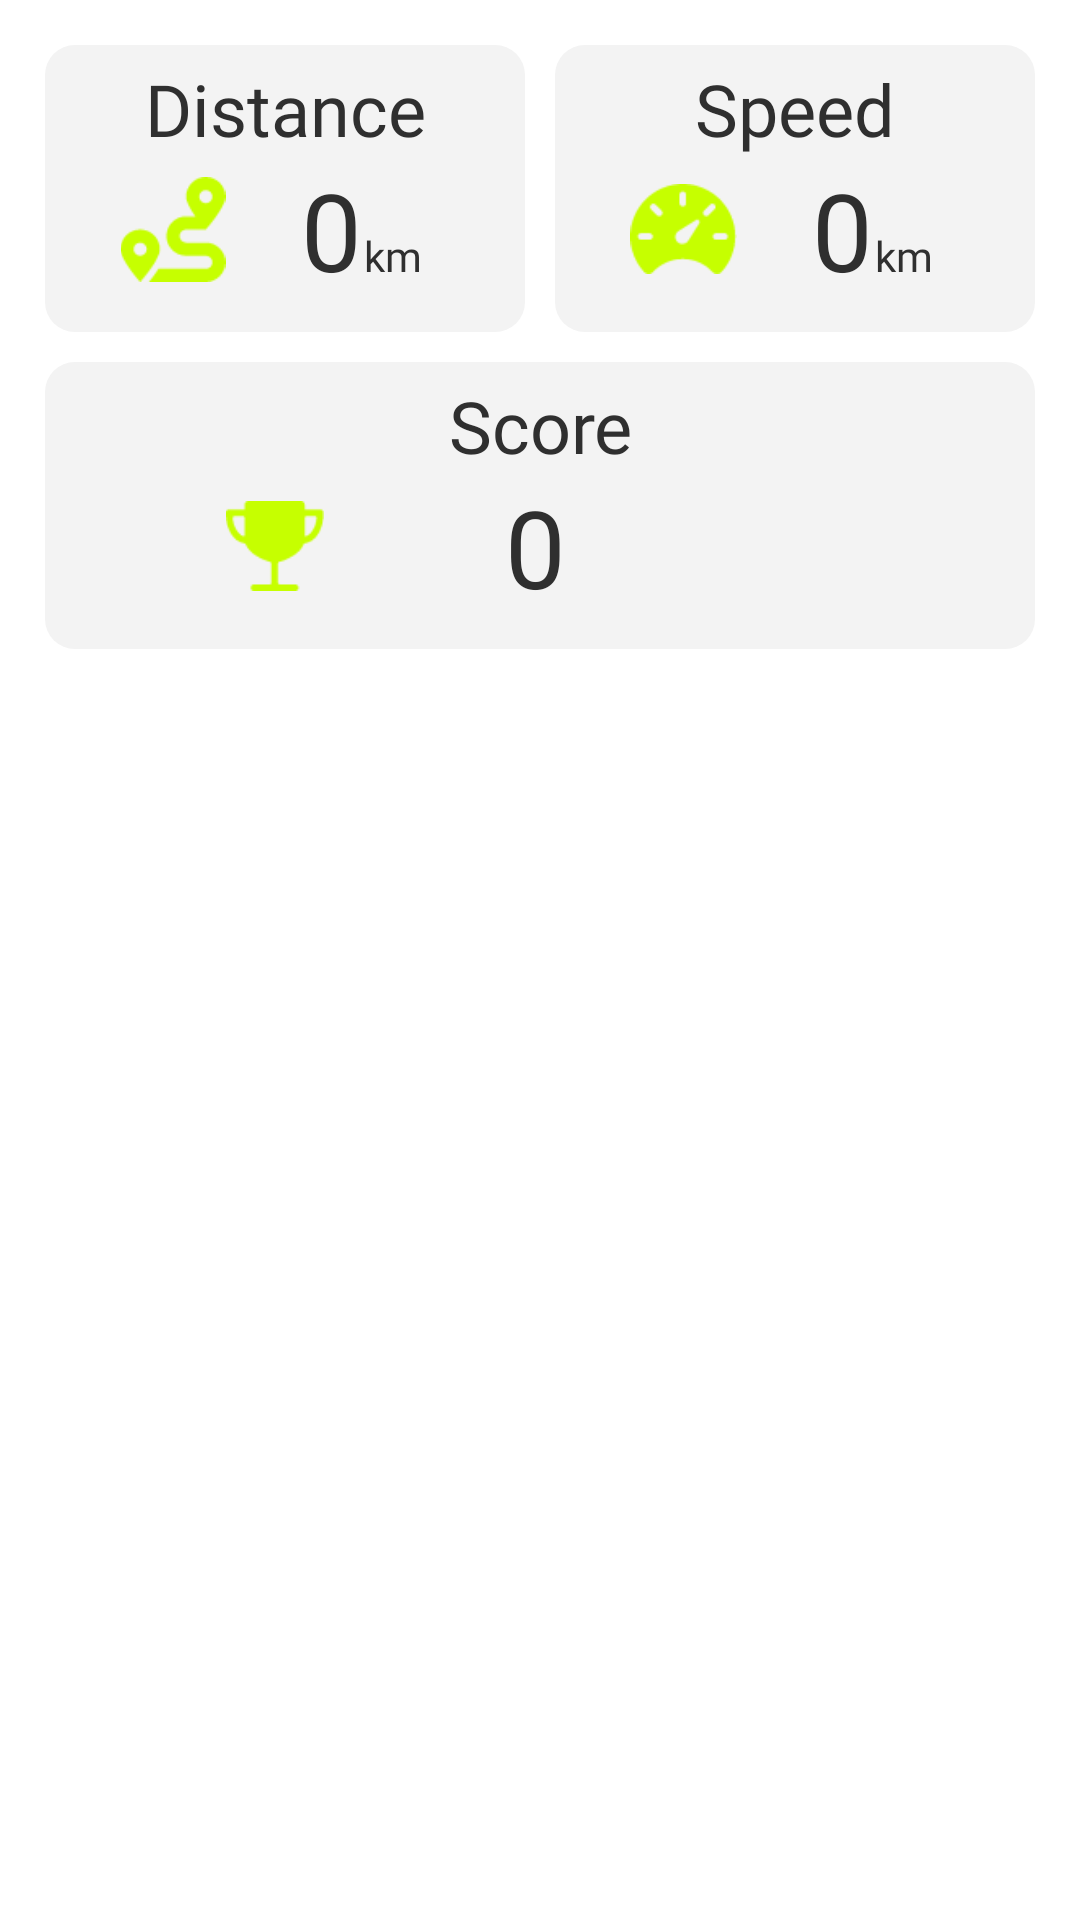

Screen size 1080px×1920px. Icon name, then its box in pixels as (x1, y1, x2, y2):
awesome route: (121, 177, 226, 282)
ionic trophy: (226, 501, 324, 591)
